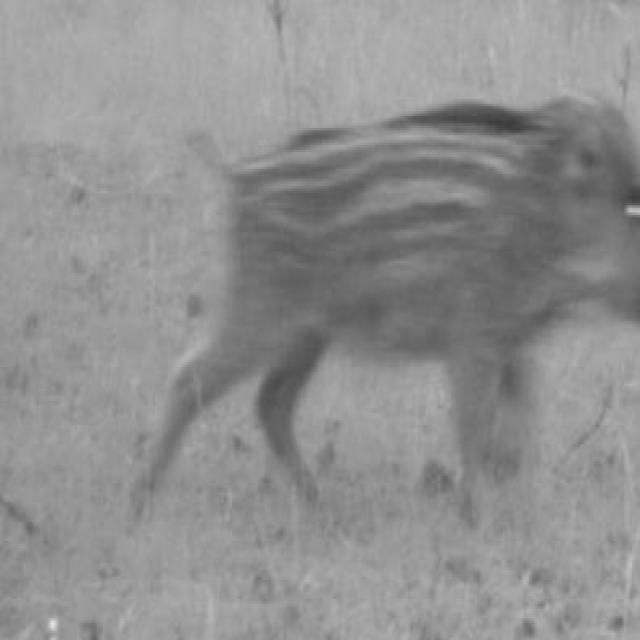pig: (153, 90, 640, 517)
